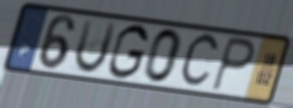0: (141, 28, 187, 85)
6: (35, 13, 77, 72)
C: (177, 31, 222, 91)
G: (106, 22, 151, 81)
P: (209, 34, 258, 94)
U: (72, 17, 119, 76)
